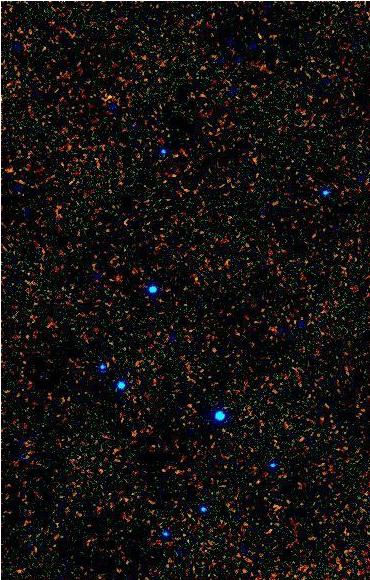star: (89, 82, 119, 112)
